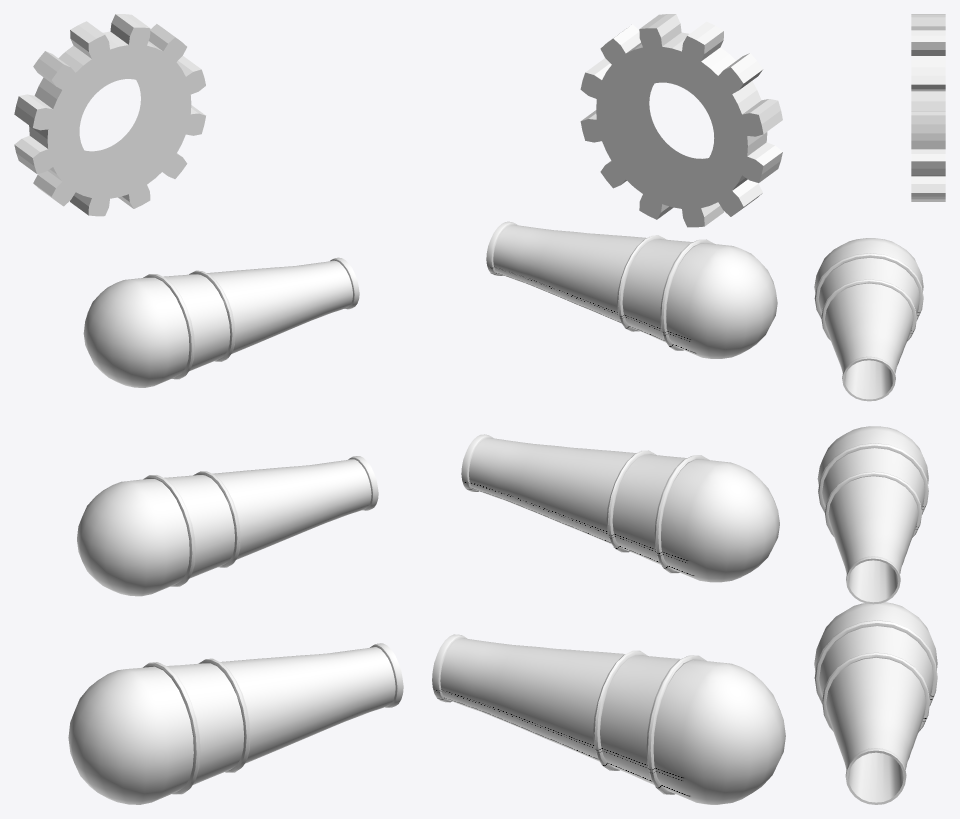
The model's file is turrets_3.glb.
3 renders of one model, left to right at view 1: azimuth 30°, elevation 25°; view 2: azimuth 150°, elevation 25°; view 3: azimuth 270°, elevation 25°, orthographic. The views are drawn at different scales.
Parts seen in each view (by area): view 1: 3, 2, gear, 1; view 2: 3, 2, gear, 1; view 3: 3, 2, 1, gear.
Boxes of the visible parts, left/top/right/bottom form: 3: left=68, top=643, right=403, bottom=804; 2: left=77, top=456, right=378, bottom=596; gear: left=14, top=14, right=205, bottom=216; 1: left=83, top=257, right=359, bottom=387; 3: left=432, top=634, right=785, bottom=804; 2: left=461, top=434, right=779, bottom=582; gear: left=580, top=14, right=782, bottom=227; 1: left=486, top=221, right=777, bottom=358; 3: left=814, top=602, right=937, bottom=804; 2: left=817, top=426, right=928, bottom=604; 1: left=814, top=238, right=923, bottom=401; gear: left=911, top=14, right=945, bottom=201.
Size of the model in its own units: 0.2501 by 0.537 by 0.0914.
16 materials, 16 textured.
